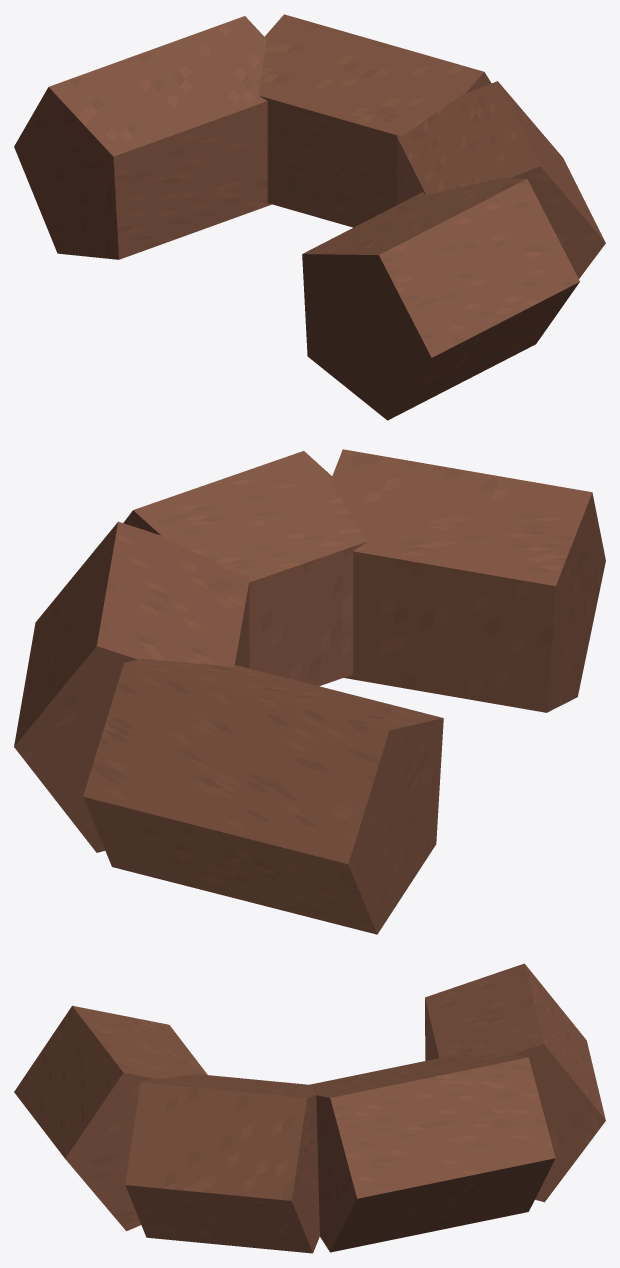
Rendered from mutant_kidney_cooked.glb.
3 views of the same model, one above another, from view 1: azimuth 30°, elevation 25°; view 2: azimuth 150°, elevation 25°; view 3: azimuth 270°, elevation 25° (orthographic). The views are drawn at different scales.
Parts seen in each view (by area): view 1: block_curved kidney 3, block_curved kidney 0, block_curved kidney 1, block_curved kidney 2; view 2: block_curved kidney 0, block_curved kidney 3, block_curved kidney 1, block_curved kidney 2; view 3: block_curved kidney 1, block_curved kidney 2, block_curved kidney 3, block_curved kidney 0.
Boxes of the visible parts, x1=… form: block_curved kidney 3: x1=302, y1=178, x2=579, y2=420; block_curved kidney 0: x1=14, y1=16, x2=271, y2=259; block_curved kidney 1: x1=258, y1=14, x2=491, y2=227; block_curved kidney 2: x1=396, y1=81, x2=605, y2=278; block_curved kidney 0: x1=83, y1=658, x2=443, y2=934; block_curved kidney 3: x1=330, y1=449, x2=605, y2=712; block_curved kidney 1: x1=14, y1=521, x2=249, y2=852; block_curved kidney 2: x1=123, y1=451, x2=367, y2=686; block_curved kidney 1: x1=308, y1=1054, x2=555, y2=1252; block_curved kidney 2: x1=125, y1=1074, x2=319, y2=1253; block_curved kidney 3: x1=14, y1=1005, x2=207, y2=1231; block_curved kidney 0: x1=425, y1=963, x2=605, y2=1202.
Size of the model in its own units: 0.0459 by 0.0214 by 0.0667.
1 material, 1 textured.
